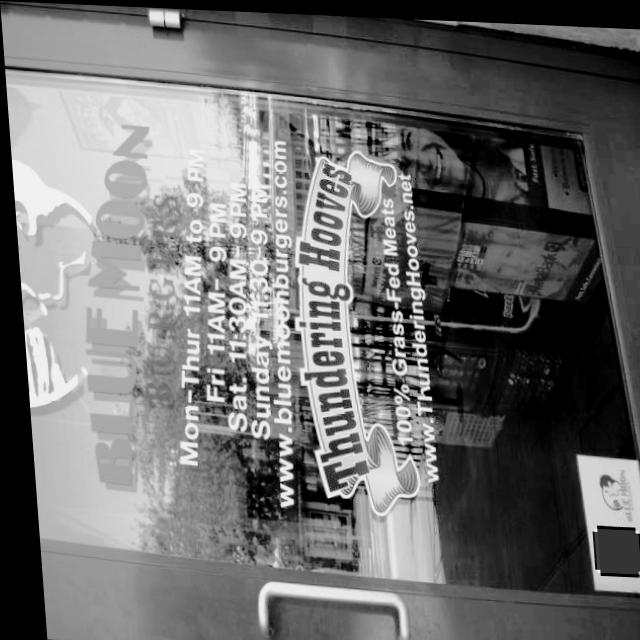qr_code: (586, 522, 633, 568)
